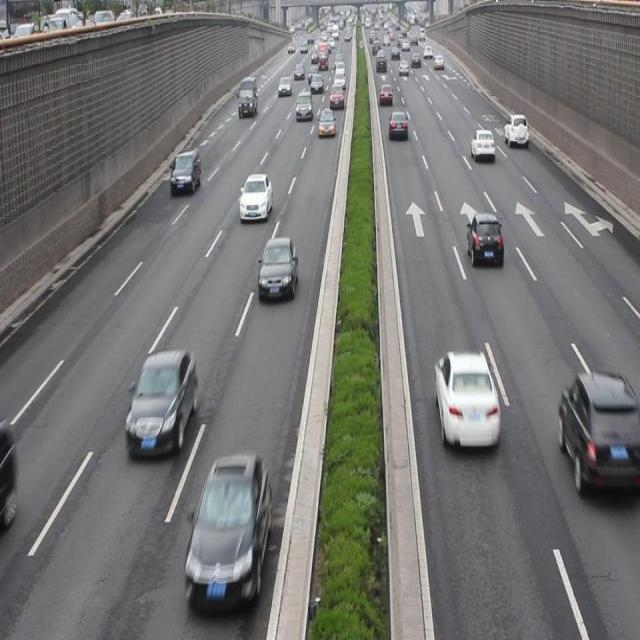car: (186, 452, 270, 608), (556, 367, 640, 494), (125, 349, 196, 458), (434, 347, 499, 448), (258, 236, 298, 300), (465, 212, 503, 266), (239, 172, 272, 223), (171, 148, 201, 194), (502, 112, 528, 146), (470, 128, 494, 162), (388, 110, 408, 140), (318, 106, 335, 138)
